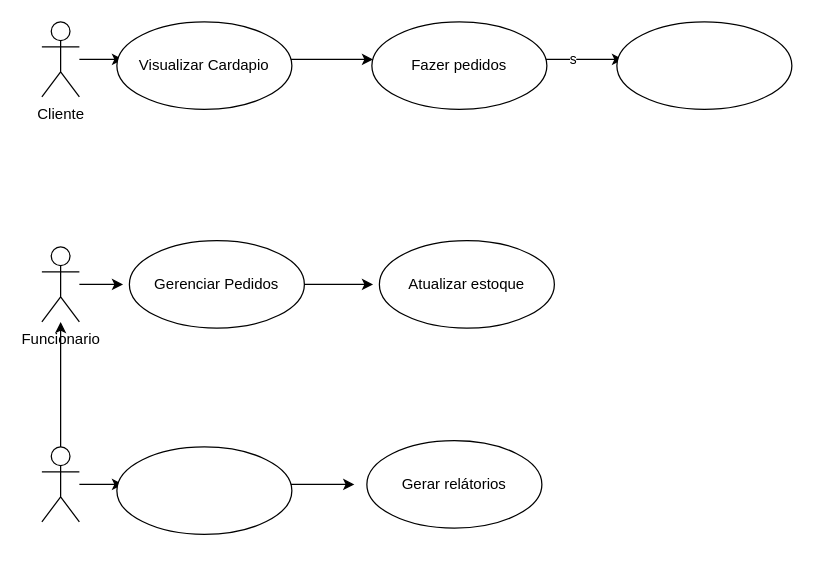
Image size: 814x570. Some labels were removed from this diagram. The centre of each missing label's shape, as x and y in pixels:
"ADM" goes at point 60,484.
"Configurar Sistema" goes at point 204,490.
"Receber lembretes" goes at point 704,65.
